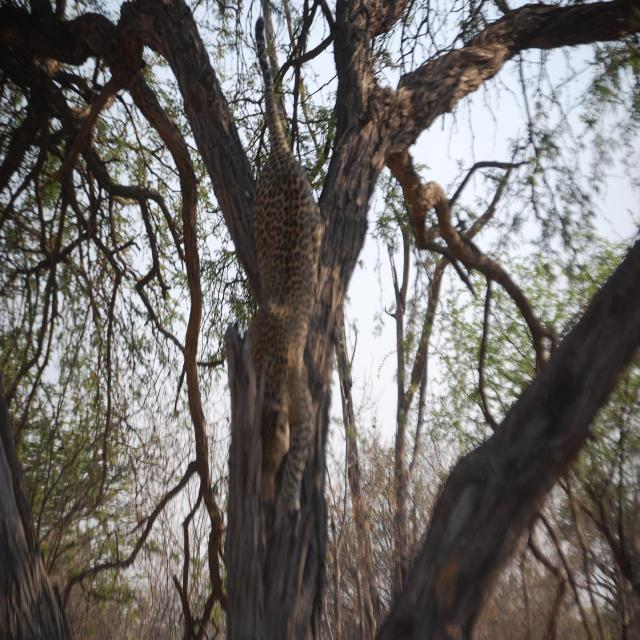Leopard: (248, 17, 327, 573)
